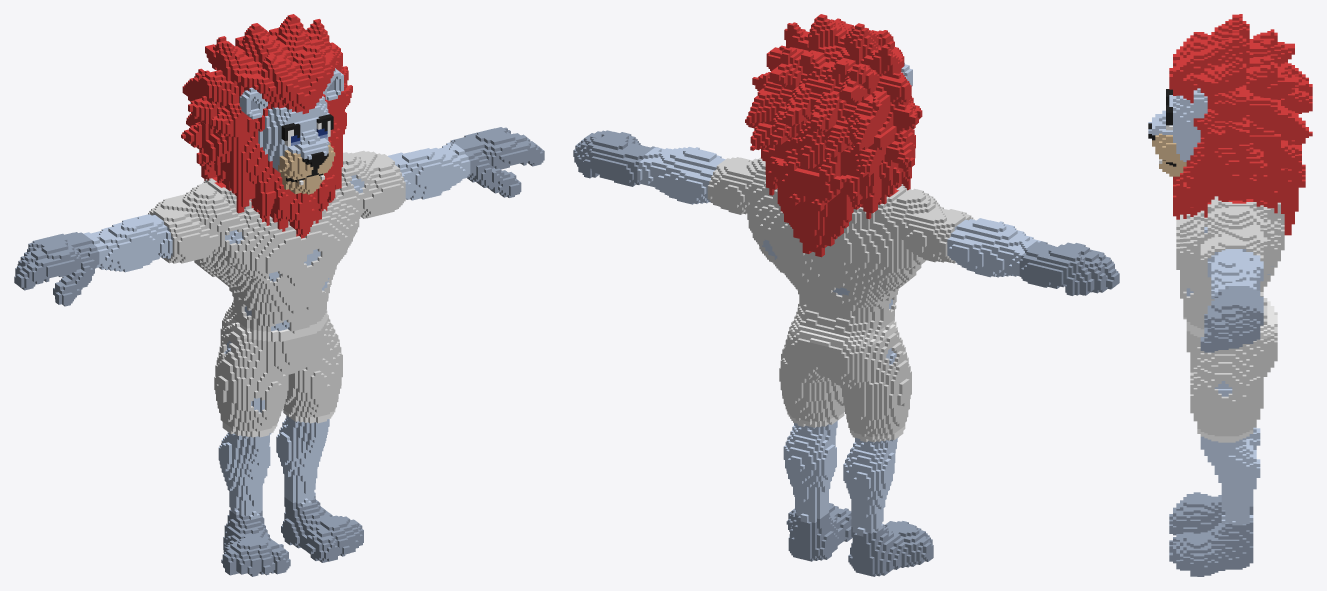
File: 280-DQs4v3MS.glb
3 views of the same model, side by side, from view 1: azimuth 30°, elevation 25°; view 2: azimuth 150°, elevation 25°; view 3: azimuth 270°, elevation 25° (orthographic). The views are drawn at different scales.
Visible parts, largest first — view 1: standard; view 2: standard; view 3: standard.
Part boxes in pixels (box(x1,y1,x2,y2)): standard: box(14, 14, 544, 576); standard: box(573, 14, 1119, 576); standard: box(1148, 14, 1312, 576).
Bounding box in the file's own units: 17.2 × 16.5 × 4.7.
Materials: 5 (5 with a texture image).
